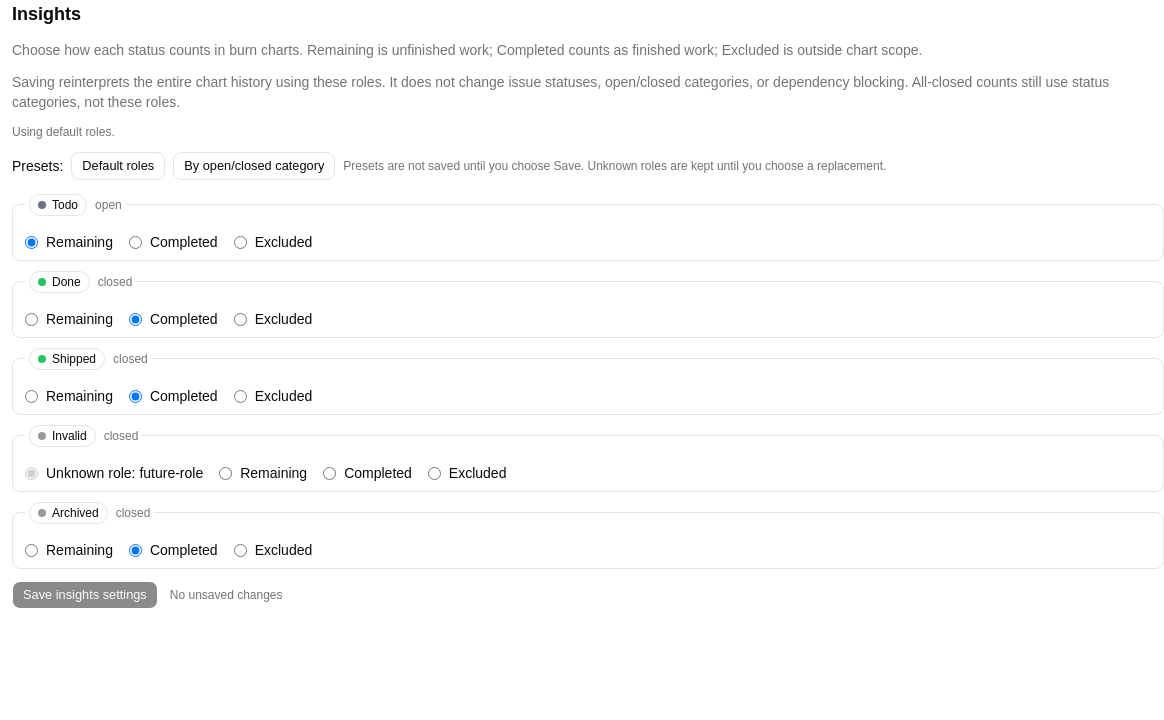
InsightsSettings › preserves the exact unknown role in the request after editing another row
Step 1. Click the radio button labelled "Excluded" below "Todo" → coordinates (240, 242), box [234,236,247,248]
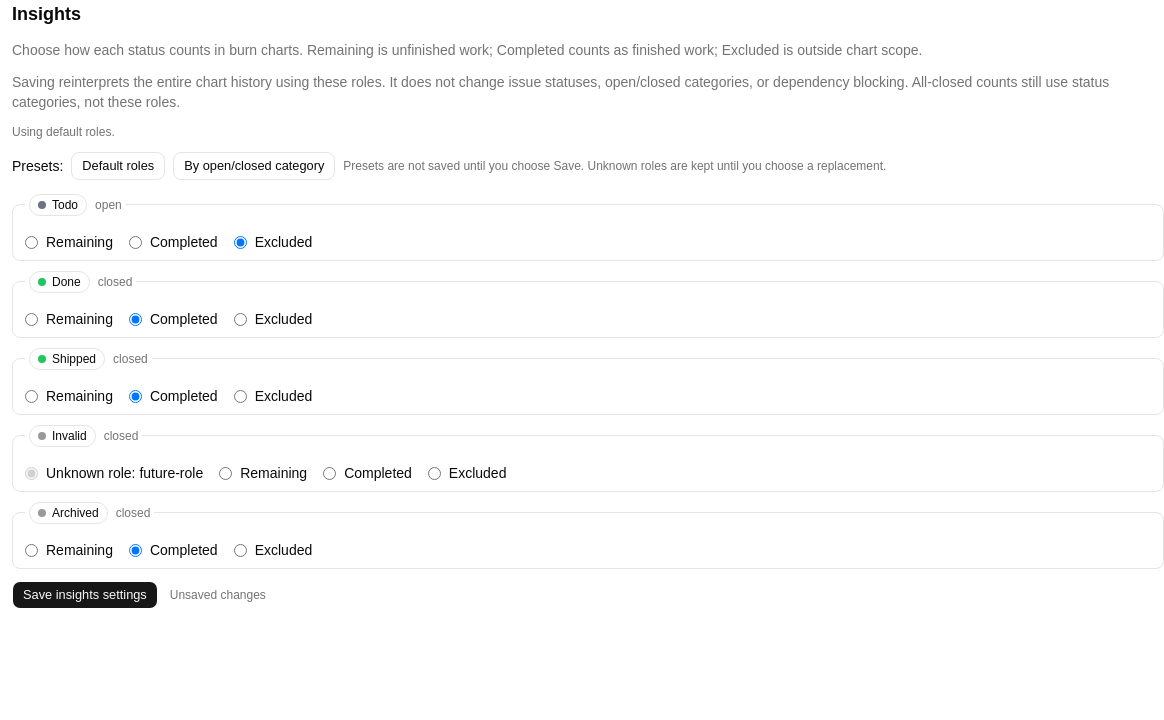
Step 2. Click the button "Save insights settings" → coordinates (85, 595), box [12,581,158,609]
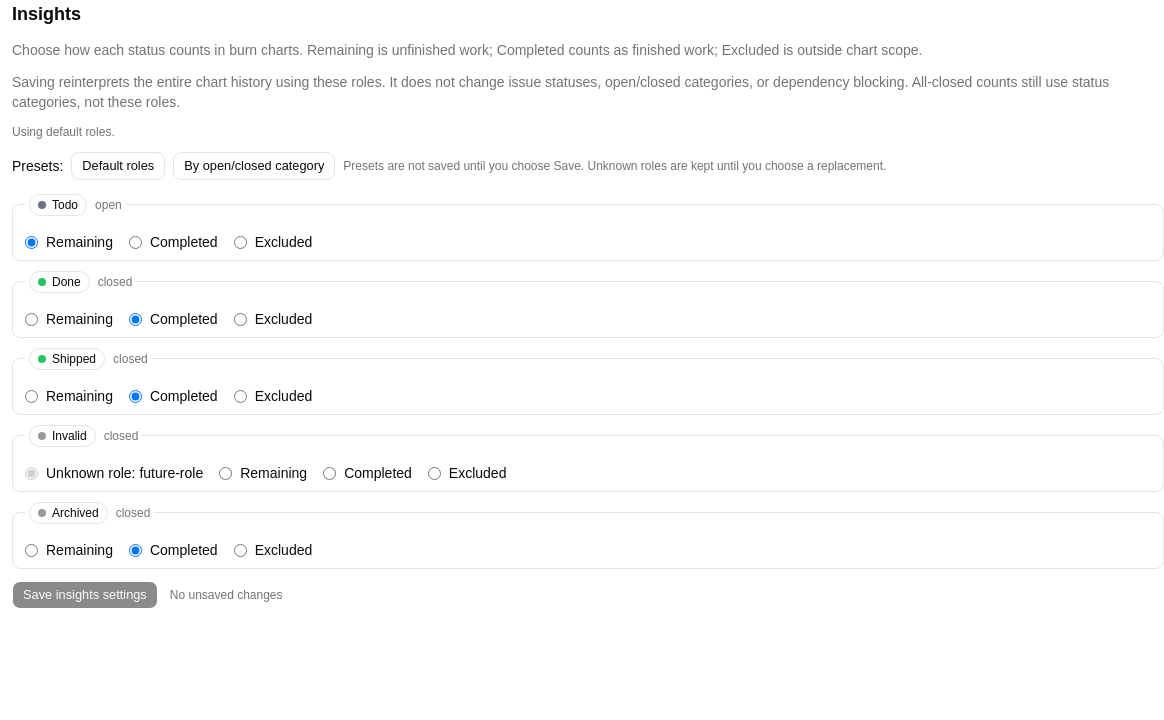
Expected: the button "Save insights settings" is disabled, [12,581,158,609]
